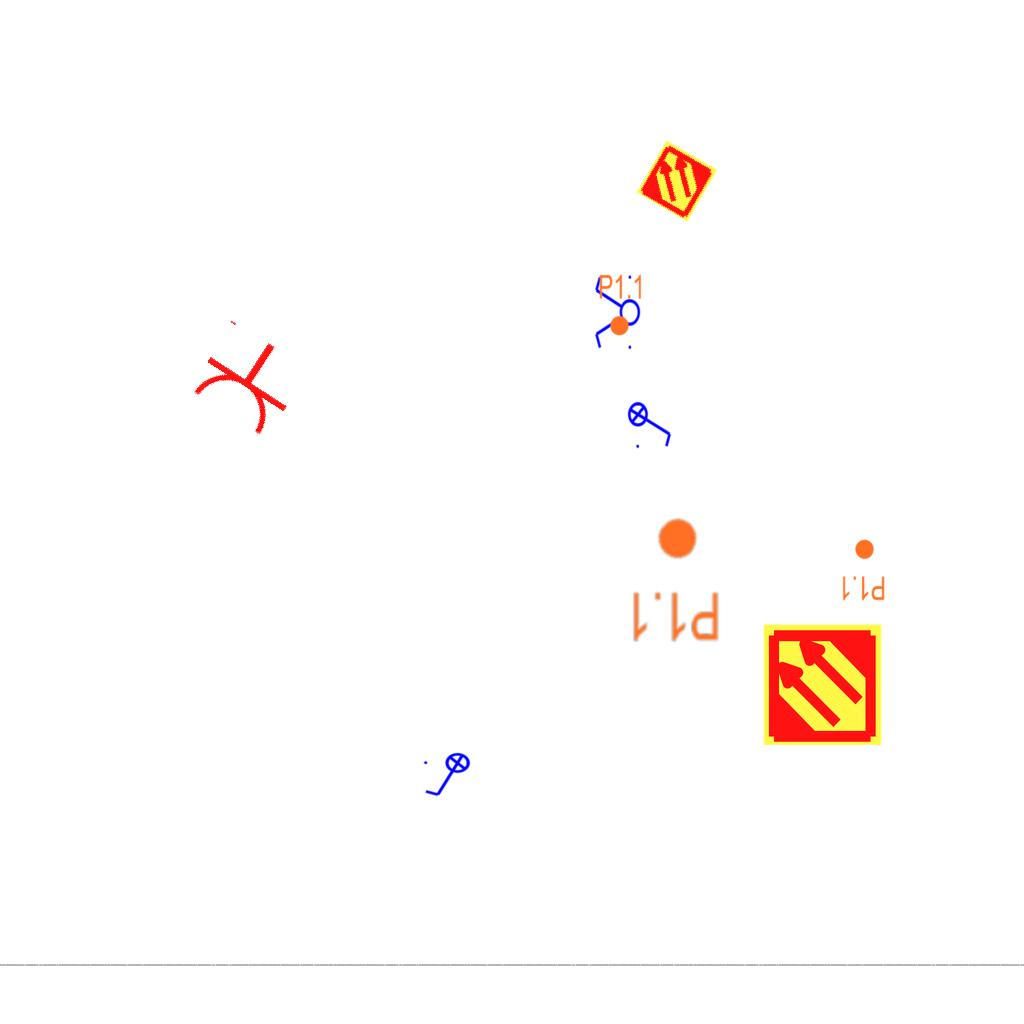ASR_Ansaugrauchmelder: (760, 622, 885, 747), (634, 138, 720, 224)
Ausschalter_beleuchtet: (627, 395, 675, 451), (421, 752, 477, 800)
Downlight_LED_Einbauleuchten_Flur: (628, 516, 721, 644), (840, 538, 886, 602), (598, 273, 644, 337)
Schukosteckdose_einfach: (181, 315, 314, 443)
Serienschalter: (593, 271, 641, 355)
